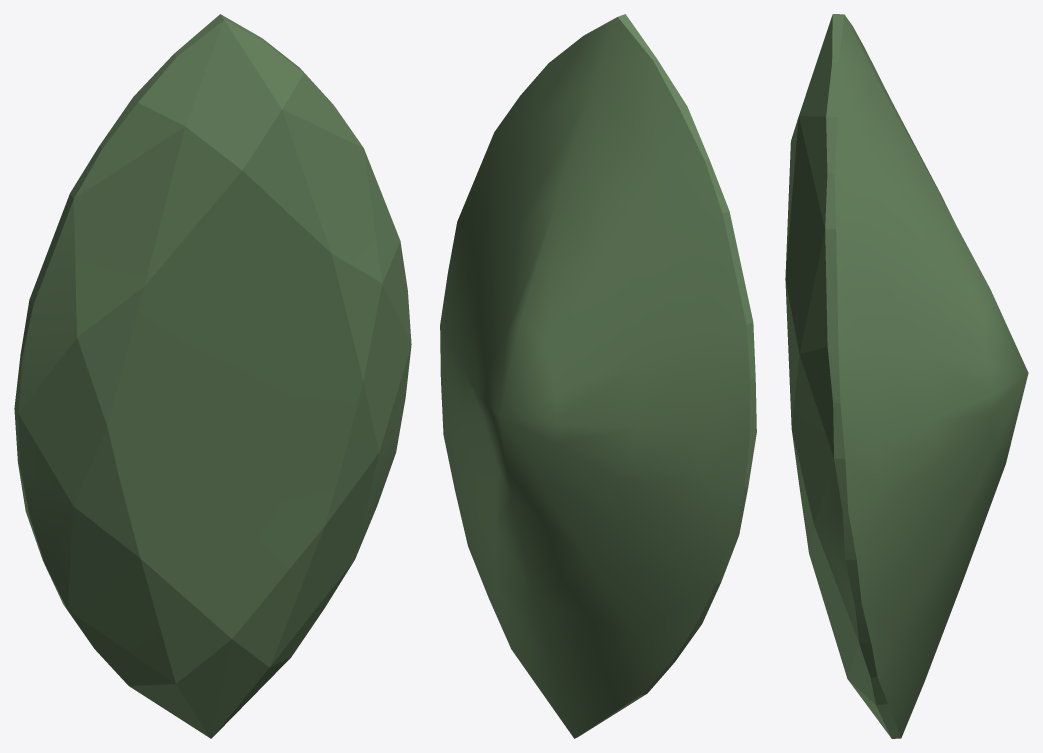
The model's file is TL1_8shapes_Marquise_Classic_Stone.001 3.glb.
3 renders of one model, left to right at view 1: azimuth 30°, elevation 25°; view 2: azimuth 150°, elevation 25°; view 3: azimuth 270°, elevation 25°, orthographic. The views are drawn at different scales.
Visible parts, largest first — view 1: TL1_8shapes_Marquise_Classic_Stone.001; view 2: TL1_8shapes_Marquise_Classic_Stone.001; view 3: TL1_8shapes_Marquise_Classic_Stone.001.
Boxes of the visible parts, box(x1,y1,x2,y2) form: TL1_8shapes_Marquise_Classic_Stone.001: box(14, 14, 411, 738); TL1_8shapes_Marquise_Classic_Stone.001: box(440, 14, 756, 738); TL1_8shapes_Marquise_Classic_Stone.001: box(785, 14, 1028, 738).
Bounding box in the file's own units: 0.3773 × 0.7441 × 0.2285.
